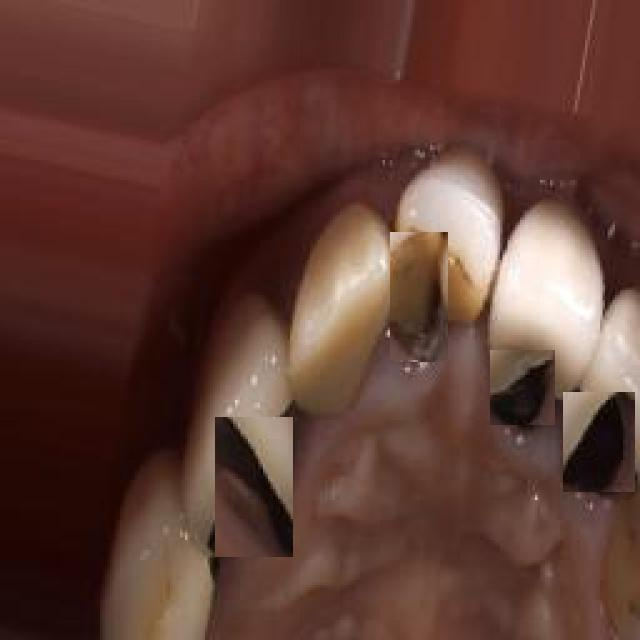caries: (215, 418, 293, 558), (390, 233, 448, 363), (563, 393, 635, 493), (490, 350, 555, 425)
